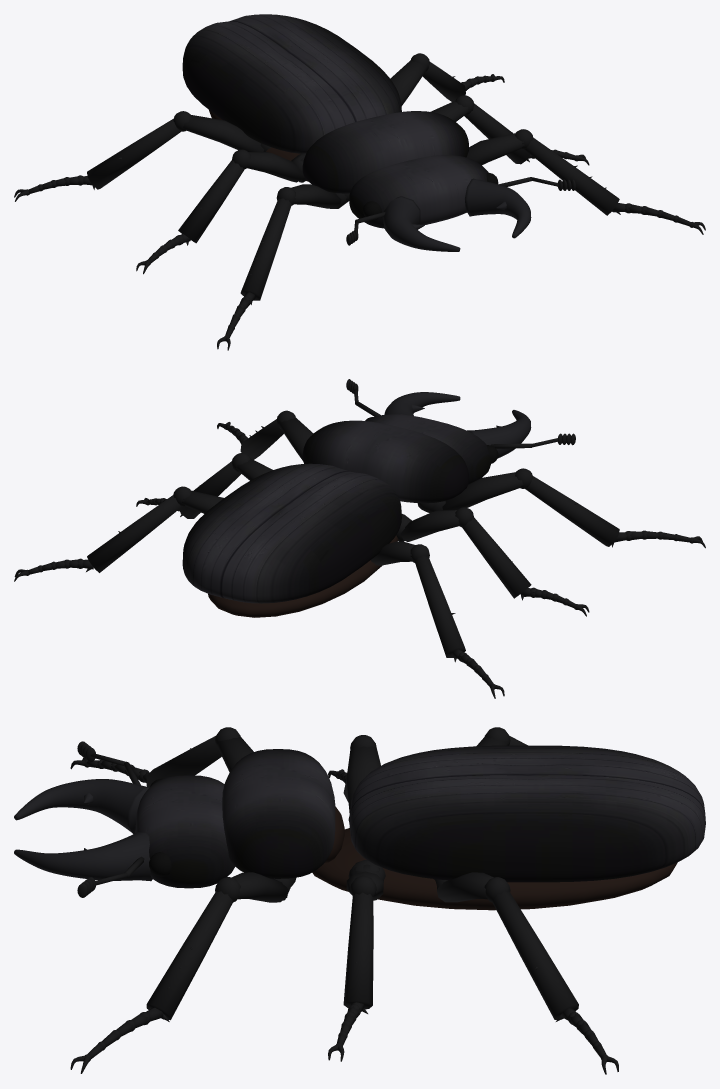
The model's file is bug_ookuwa.glb.
3 views of the same model, one above another, from view 1: azimuth 30°, elevation 25°; view 2: azimuth 150°, elevation 25°; view 3: azimuth 270°, elevation 25° (orthographic). The views are drawn at different scales.
Visible parts, largest first — view 1: shell, pronotum, head_shell, leg_2_R_mesh, leg_0_L_mesh, leg_1_R_mesh, leg_0_R_mesh, leg_2_L_mesh, jaw_L_mesh, jaw_R_mesh, leg_1_L_mesh; view 2: shell, pronotum, leg_0_R_mesh, leg_1_R_mesh, leg_2_L_mesh, leg_2_R_mesh, head_shell, under, leg_0_L_mesh, leg_1_L_mesh, jaw_R_mesh, jaw_L_mesh (+1 smaller); view 3: shell, pronotum, head_shell, under, leg_0_L_mesh, leg_2_L_mesh, leg_1_L_mesh, jaw_L_mesh, jaw_R_mesh, leg_0_R_mesh, leg_1_R_mesh, ant_L_mesh (+2 smaller).
Part boxes in pixels (box(x1,y1,x2,y2)): shell: box(182, 14, 401, 153); pronotum: box(302, 111, 468, 193); head_shell: box(349, 155, 488, 228); leg_2_R_mesh: box(14, 111, 270, 201); leg_0_L_mesh: box(466, 129, 705, 234); leg_1_R_mesh: box(136, 149, 306, 274); leg_0_R_mesh: box(217, 184, 349, 350); leg_2_L_mesh: box(390, 53, 504, 105); jaw_L_mesh: box(465, 178, 531, 238); jaw_R_mesh: box(383, 196, 460, 251); leg_1_L_mesh: box(430, 95, 589, 165); shell: box(182, 463, 401, 603); pronotum: box(302, 420, 468, 503); leg_0_R_mesh: box(417, 468, 705, 548); leg_1_R_mesh: box(396, 507, 589, 616); leg_2_L_mesh: box(14, 486, 223, 581); leg_2_R_mesh: box(371, 541, 504, 698); head_shell: box(365, 414, 490, 484); under: box(208, 535, 398, 617); leg_0_L_mesh: box(217, 410, 313, 460); leg_1_L_mesh: box(136, 453, 272, 518); jaw_R_mesh: box(467, 410, 531, 458); jaw_L_mesh: box(384, 392, 460, 415); shell: box(349, 745, 705, 882); pronotum: box(222, 749, 335, 878); head_shell: box(135, 775, 235, 888); under: box(312, 806, 677, 910); leg_0_L_mesh: box(70, 872, 296, 1073); leg_2_L_mesh: box(434, 872, 618, 1074); leg_1_L_mesh: box(328, 860, 385, 1061); jaw_L_mesh: box(14, 832, 152, 881); jaw_R_mesh: box(14, 779, 149, 833); leg_0_R_mesh: box(70, 727, 253, 787); leg_1_R_mesh: box(328, 735, 380, 821); ant_L_mesh: box(77, 856, 144, 897).
Size of the model in its own units: 1.65 by 0.3678 by 1.55.
6 materials, 2 textured.
